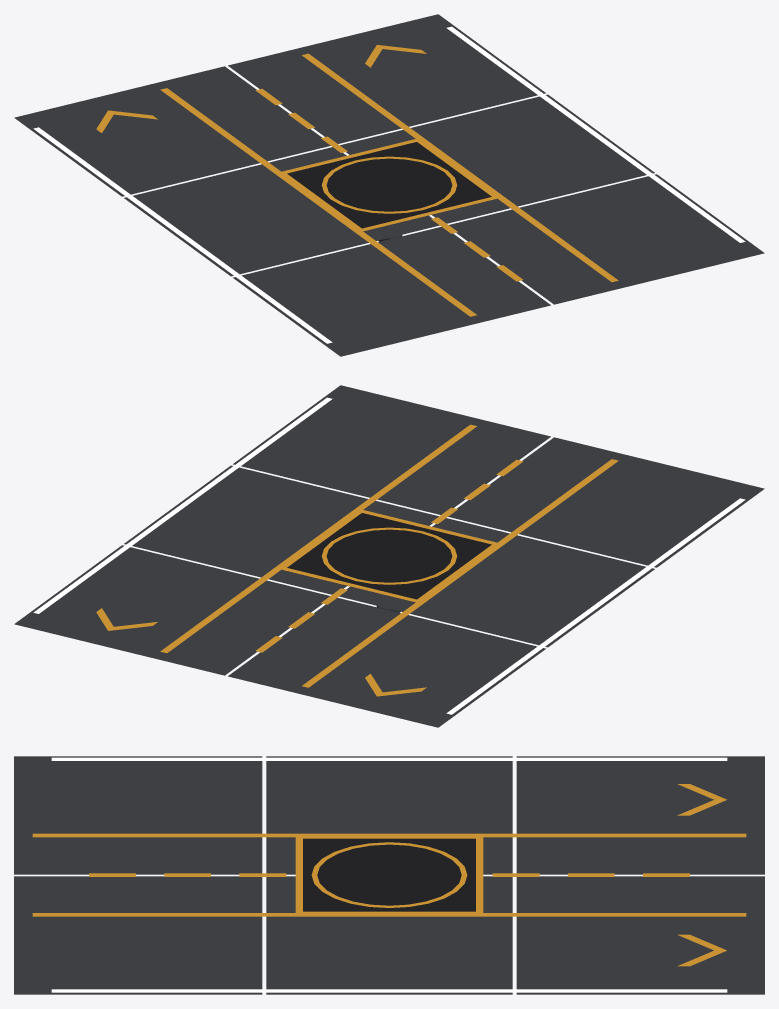
The model's file is ws_pad.glb.
The picture shows the model from 3 angles, top to bottom: view 1: azimuth 30°, elevation 25°; view 2: azimuth 150°, elevation 25°; view 3: azimuth 270°, elevation 25°; orthographic projection. The views are drawn at different scales.
Visible parts, largest first — view 1: ws_pad, pad_status_light; view 2: ws_pad, pad_status_light; view 3: ws_pad, pad_status_light.
Part boxes in pixels (box(x1,y1,x2,y2)): ws_pad: box(14, 14, 764, 356); pad_status_light: box(33, 26, 745, 343); ws_pad: box(14, 385, 764, 727); pad_status_light: box(33, 397, 745, 714); ws_pad: box(14, 756, 764, 994); pad_status_light: box(51, 757, 727, 992).
Size of the model in its own units: 3 by 0.364 by 4.
